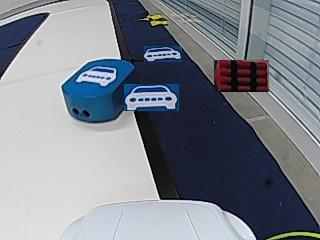safety: (76, 65, 118, 86)
